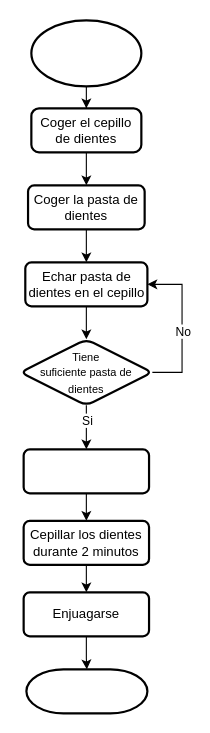
Some shapes in this 210 by 733 pixel diagram are drawn without their labels. The centre of each missing label's shape, as x and y in pixels:
"Fin" goes at point (86, 691).
"Inicio" goes at point (86, 53).
"Meter el cepillo de dientes en la boca" goes at point (86, 471).
